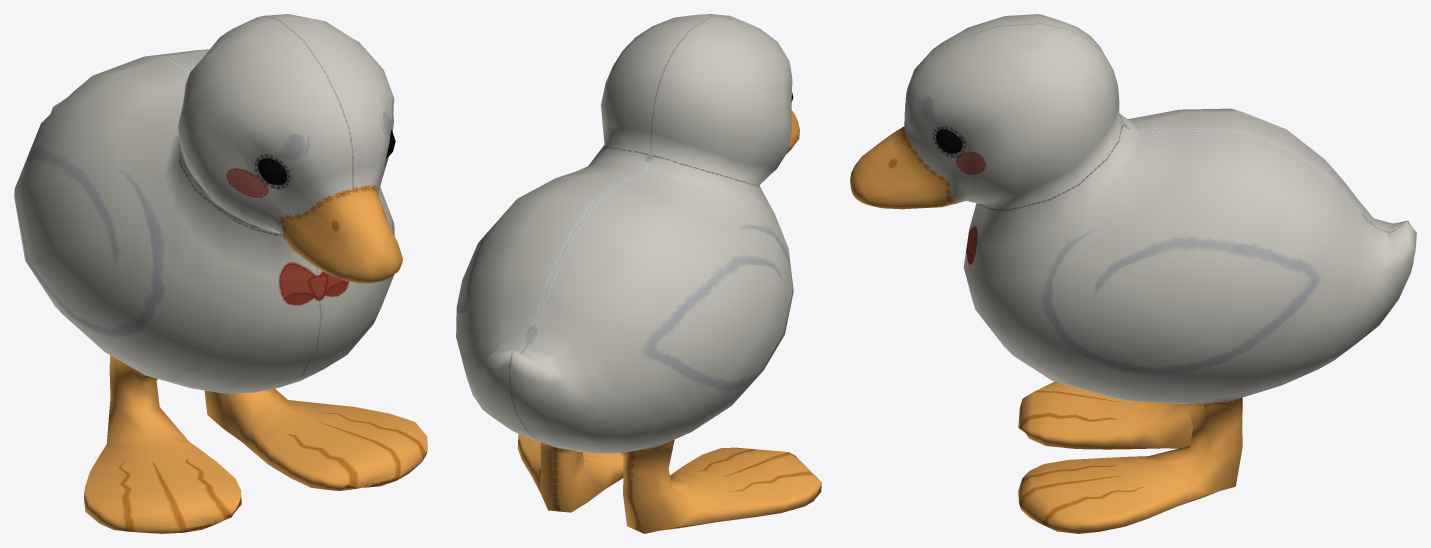
The model's file is Duck.fbx.
3 renders of one model, left to right at view 1: azimuth 30°, elevation 25°; view 2: azimuth 150°, elevation 25°; view 3: azimuth 270°, elevation 25°, orthographic. The views are drawn at different scales.
Visible parts, largest first — view 1: duck; view 2: duck; view 3: duck.
Boxes of the visible parts, bbox=[...] form: duck: bbox=[14, 14, 427, 533]; duck: bbox=[456, 14, 821, 533]; duck: bbox=[850, 14, 1416, 533].
Size of the model in its own units: 58.93 by 83.13 by 97.19.
